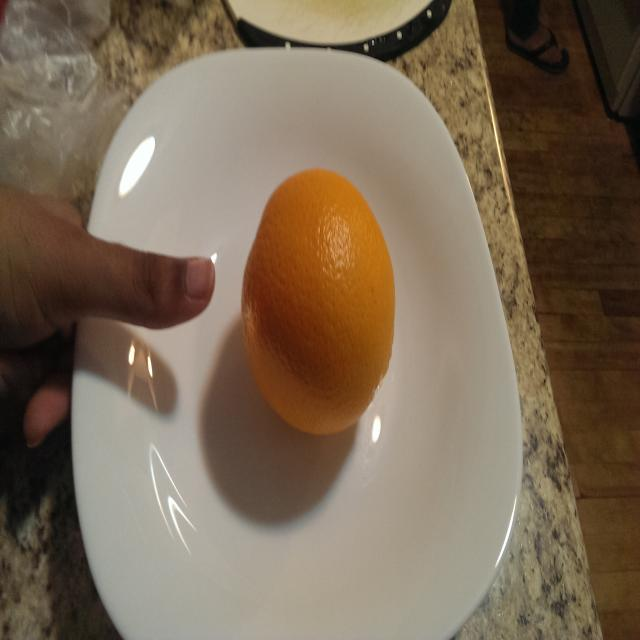orange: (240, 167, 396, 436)
